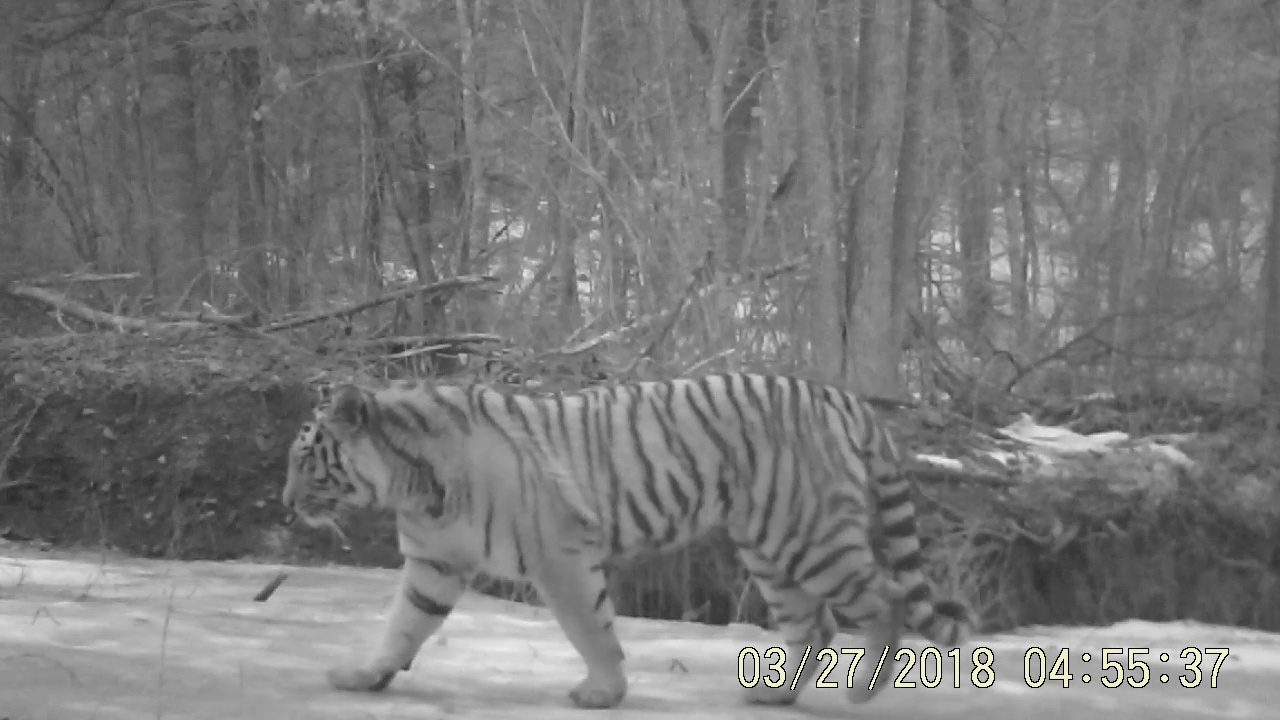Tiger: (273, 266, 1069, 715)
